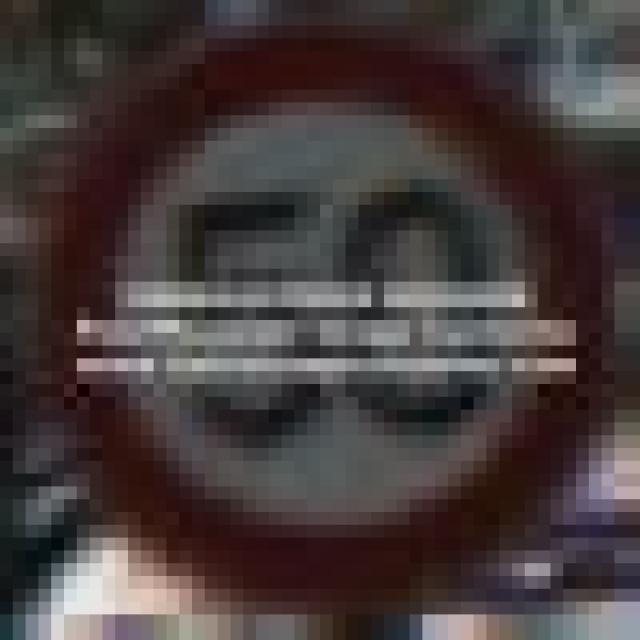SPEED_LIMIT_50: (51, 38, 602, 576)
